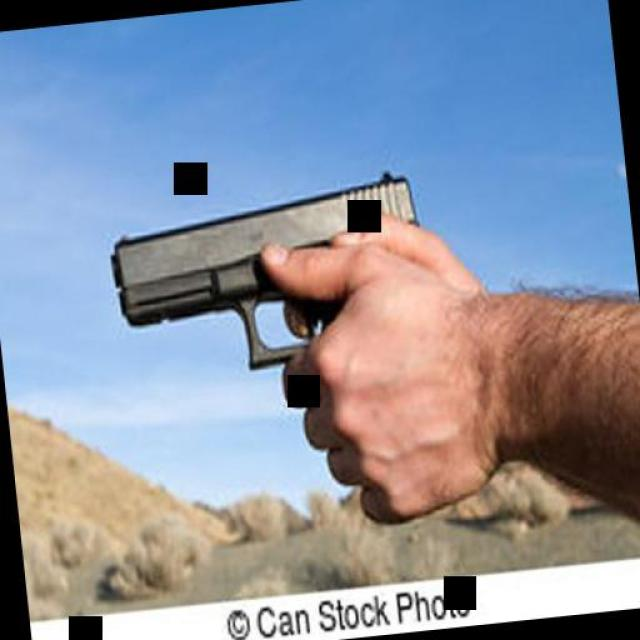gun: (99, 162, 435, 386)
